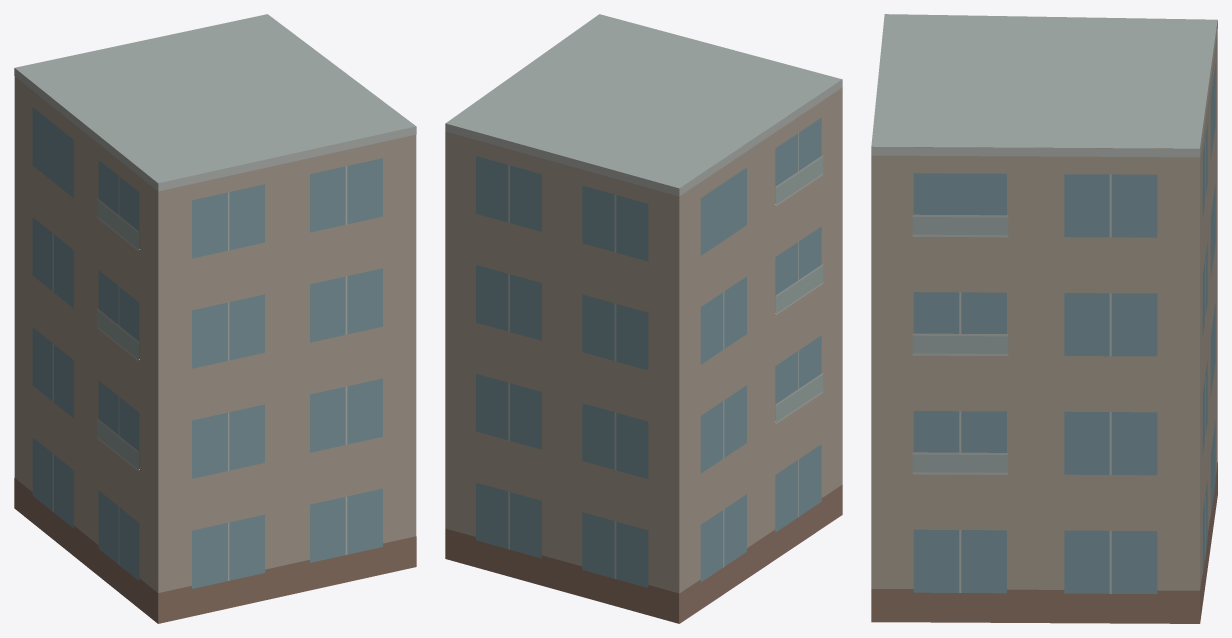
Rendered from survey-upis-33044354.glb.
The picture shows the model from 3 angles, left to right: view 1: azimuth 30°, elevation 25°; view 2: azimuth 150°, elevation 25°; view 3: azimuth 270°, elevation 25°; orthographic projection. The views are drawn at different scales.
Visible parts, largest first — view 1: survey-upis-33044354.tmp; view 2: survey-upis-33044354.tmp; view 3: survey-upis-33044354.tmp.
Part boxes in pixels (x1,y1,x2,y2): survey-upis-33044354.tmp: [14, 14, 416, 623]; survey-upis-33044354.tmp: [445, 14, 842, 623]; survey-upis-33044354.tmp: [871, 14, 1217, 623].
Bounding box in the file's own units: 8.03 × 13.2 × 8.73.
